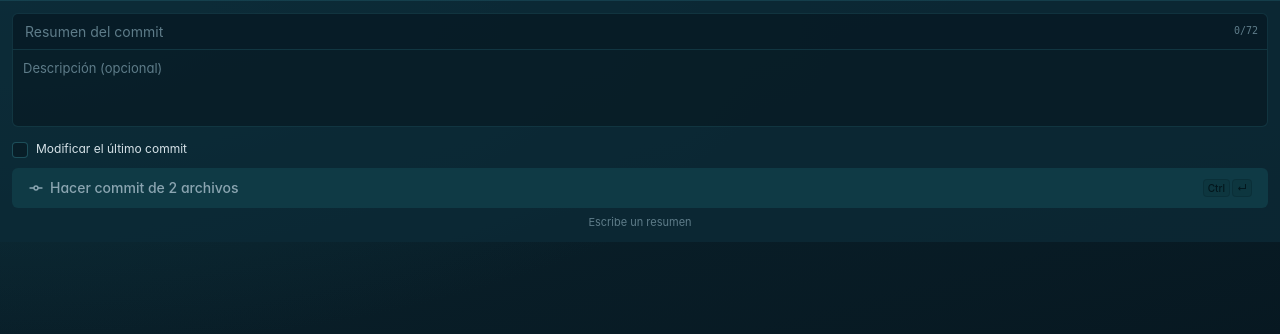
Test: CommitEditor › is disabled until there is a summary and something staged
Check: the button "Hacer commit de 2 archivos Ctrl ↵" is disabled, box [12,168,1268,208]
Check: the text "Escribe un resumen" is shown, box [588,215,692,229]
Type "Fix parser" into the field labelled "Resumen del commit" at (640, 31), box [12,13,1268,49]
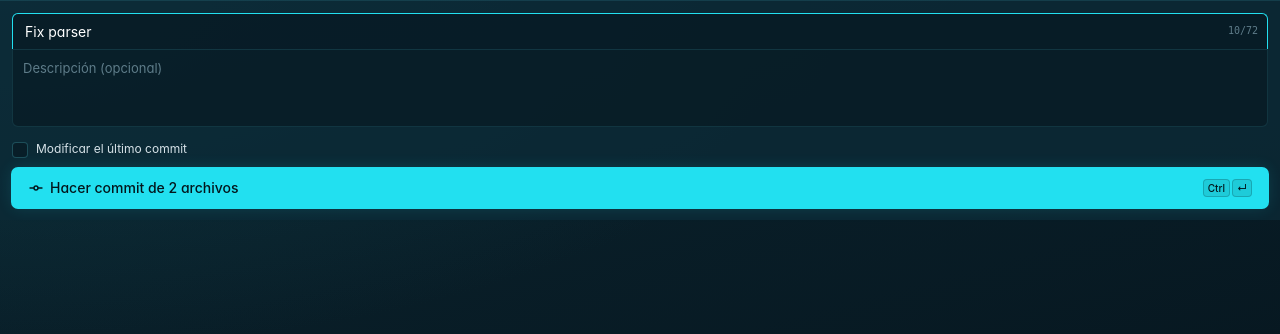
Check: the button "Hacer commit de 2 archivos Ctrl ↵" is enabled, box [12,168,1268,208]
